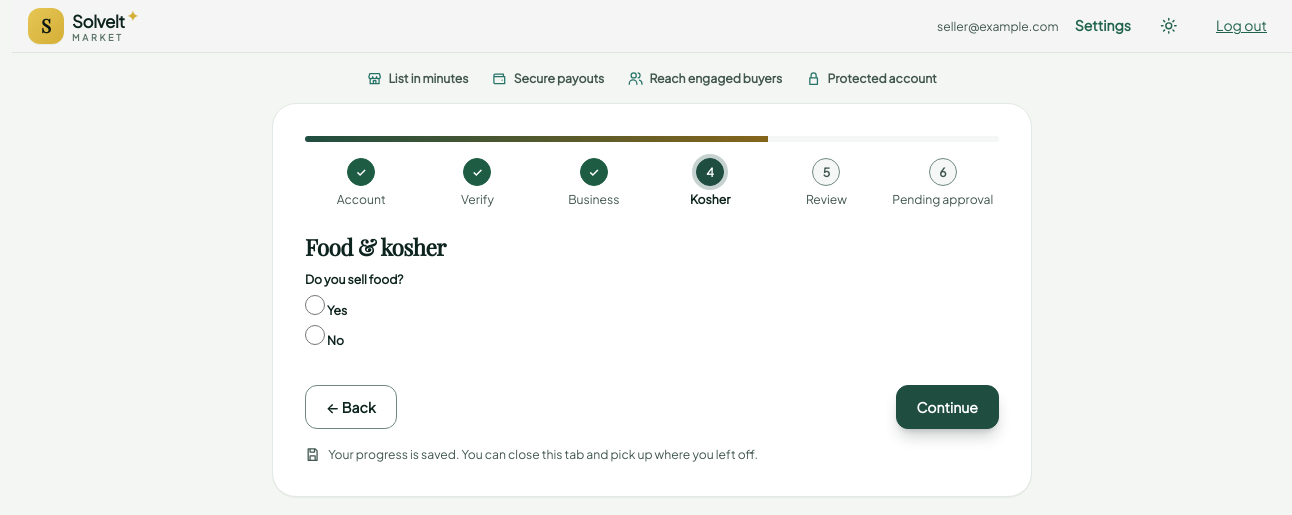
Scenario: wizard navigation and guards › Back on the kosher step returns to the business step
This screenshot has width=1292, height=515.
Click the button "← Back" at (351, 407), box [305,385,397,429]
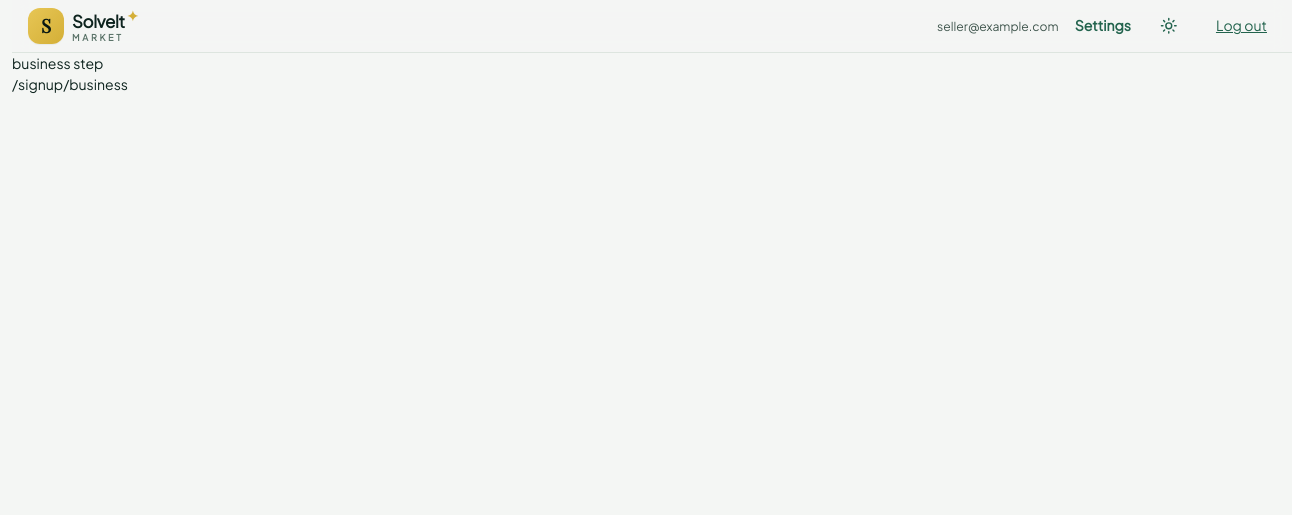
Result: the text with test id "loc" reads "/signup/business" at [12,75,128,93]
